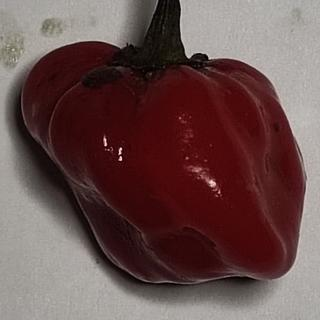Defect: (74, 59, 134, 92)
